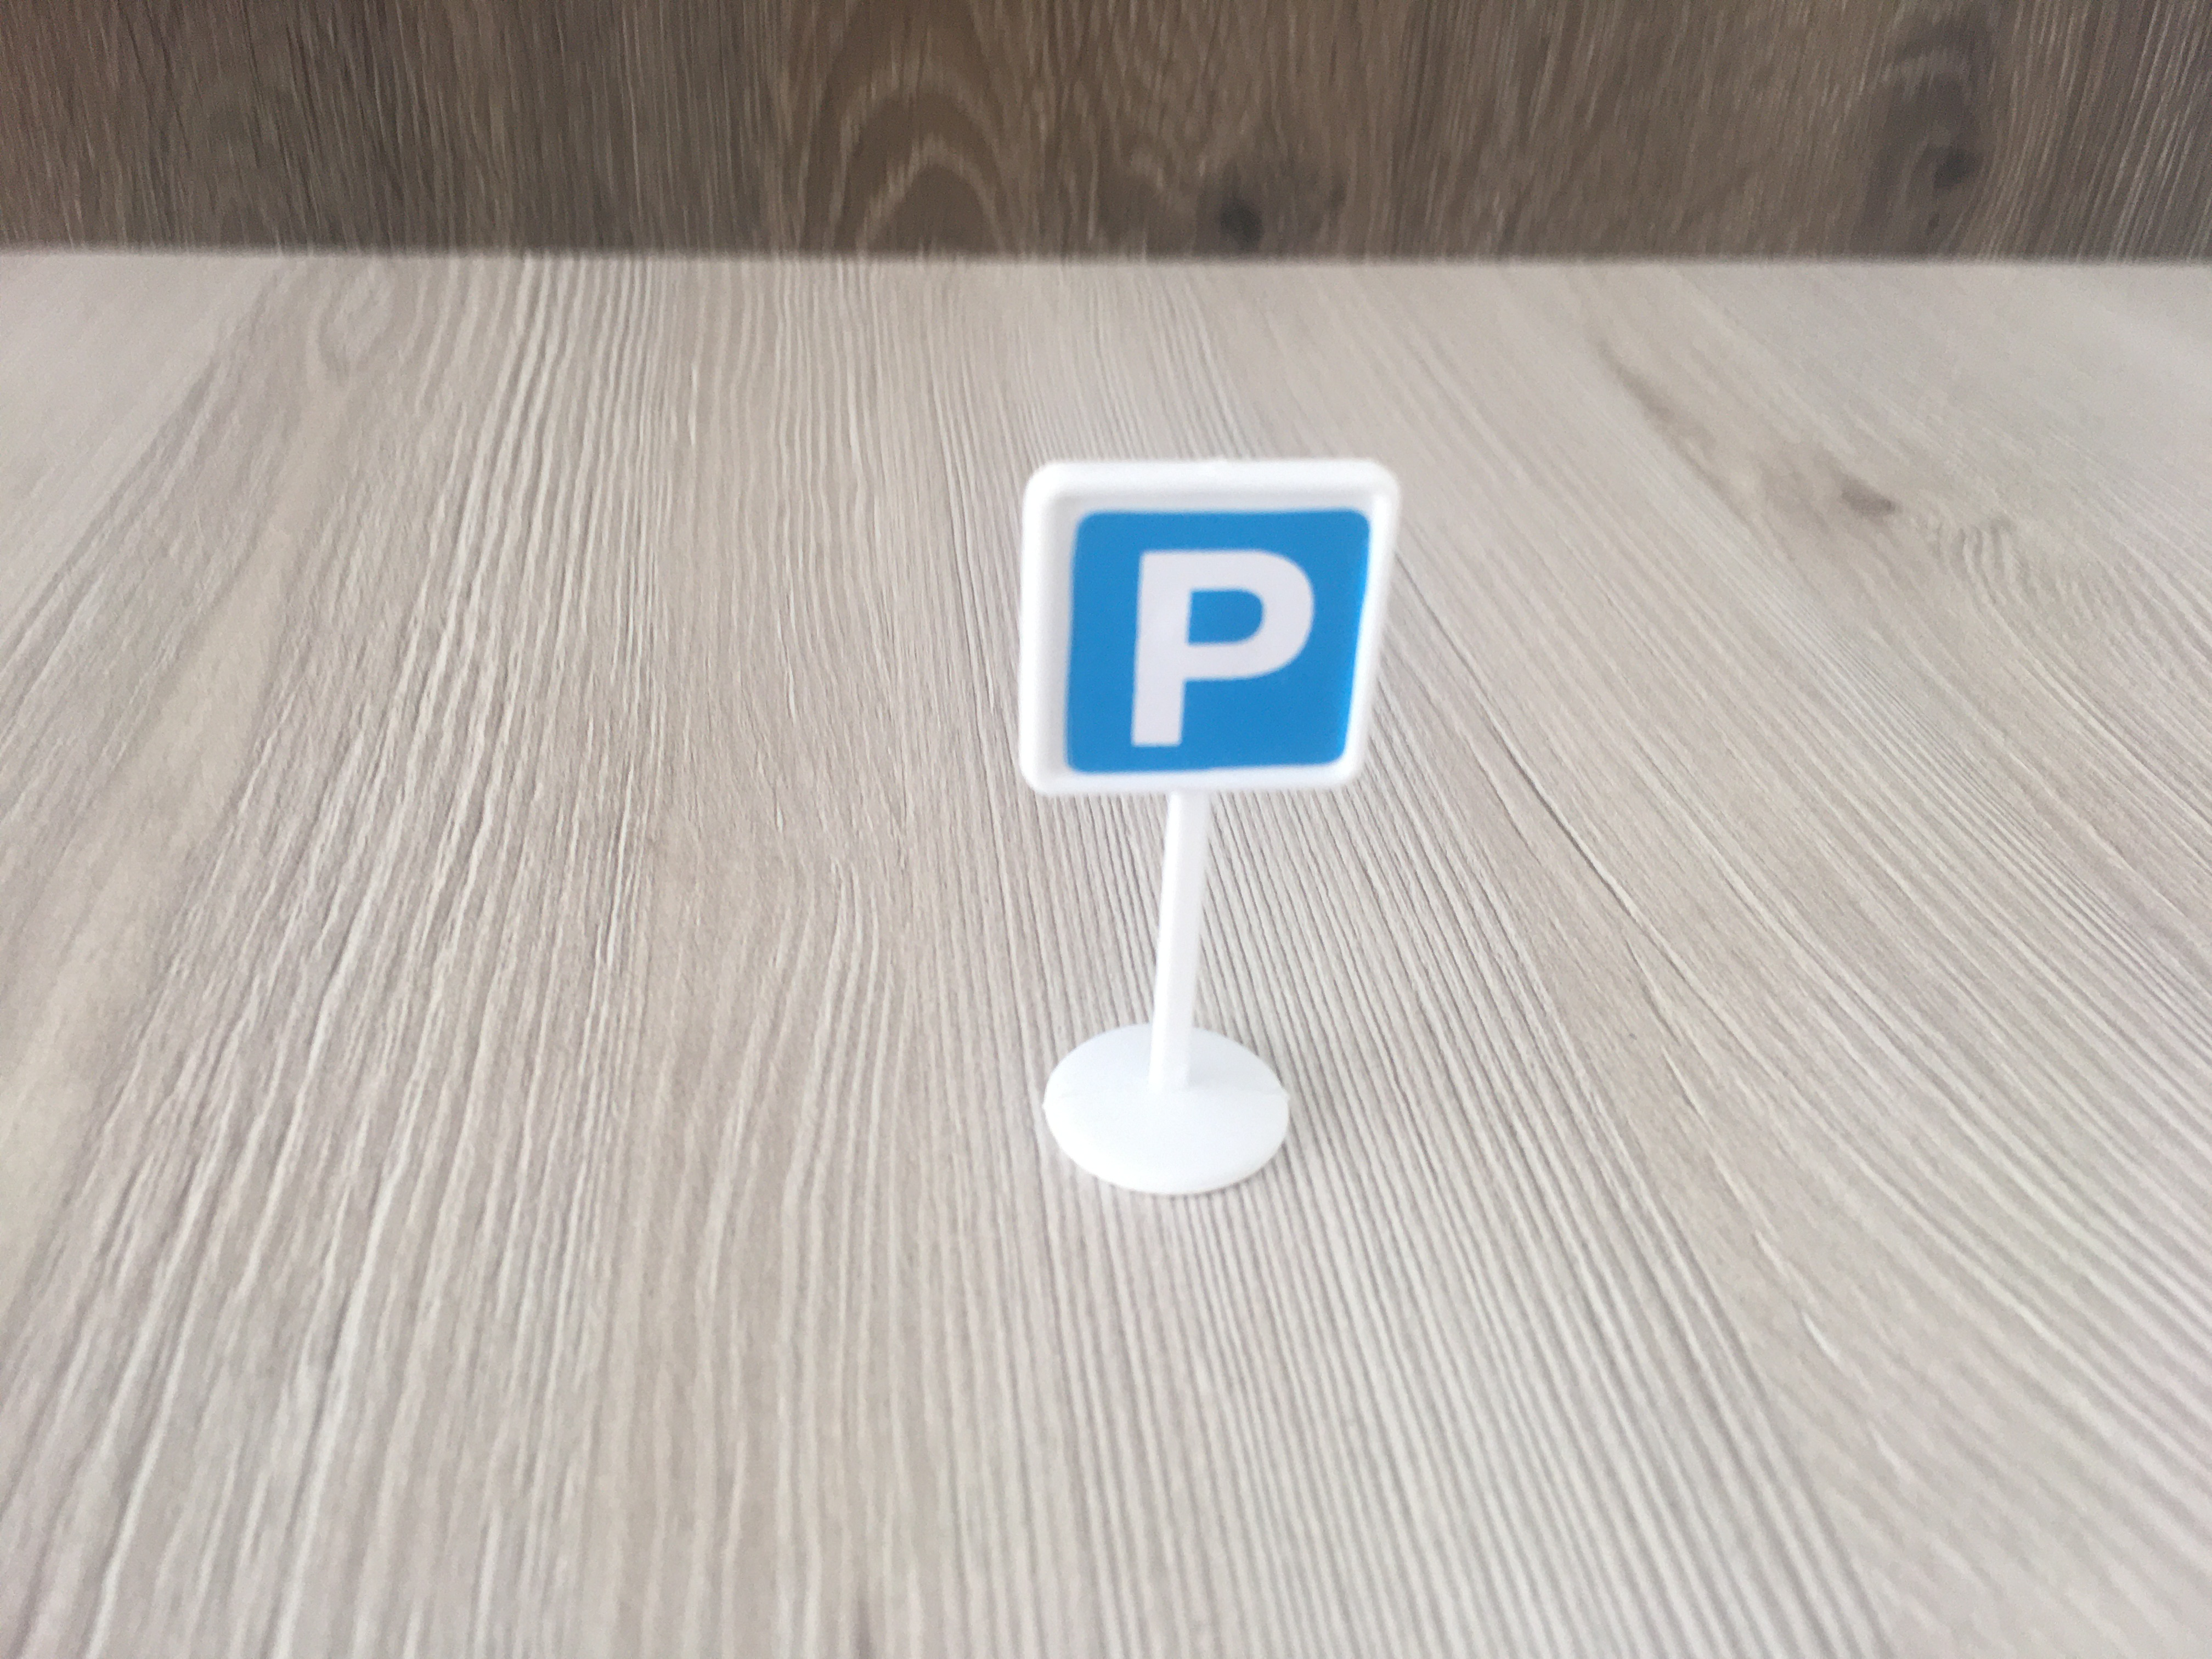parking: (1029, 471, 1386, 791)
